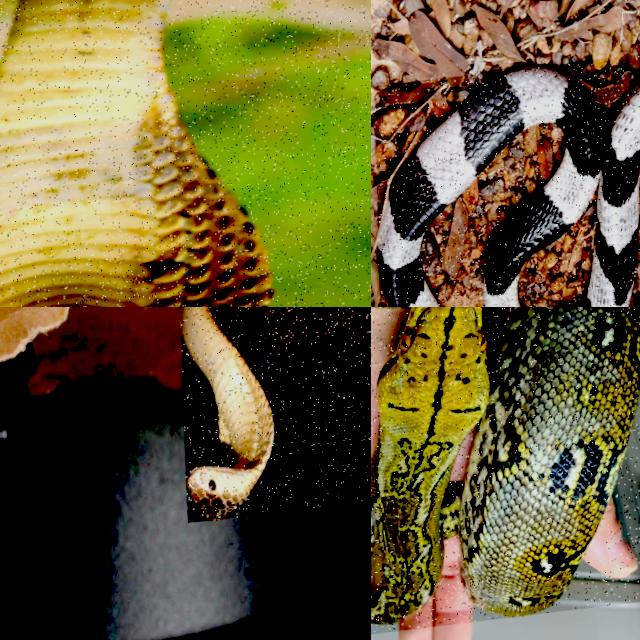Bungarus candidus: (379, 67, 639, 306)
Malayopython reticulatus: (371, 307, 639, 623)
Naja kaouthia: (180, 307, 274, 518)
Ophiophagus hannah: (0, 0, 272, 306)
snake: (371, 307, 639, 623), (0, 0, 272, 306), (379, 67, 639, 306), (180, 307, 274, 518)
